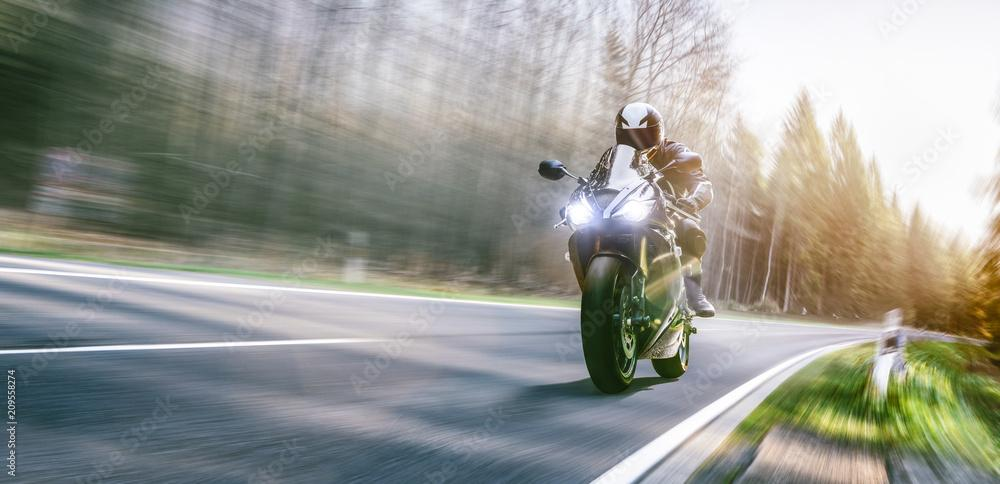helmet: (614, 102, 665, 166)
